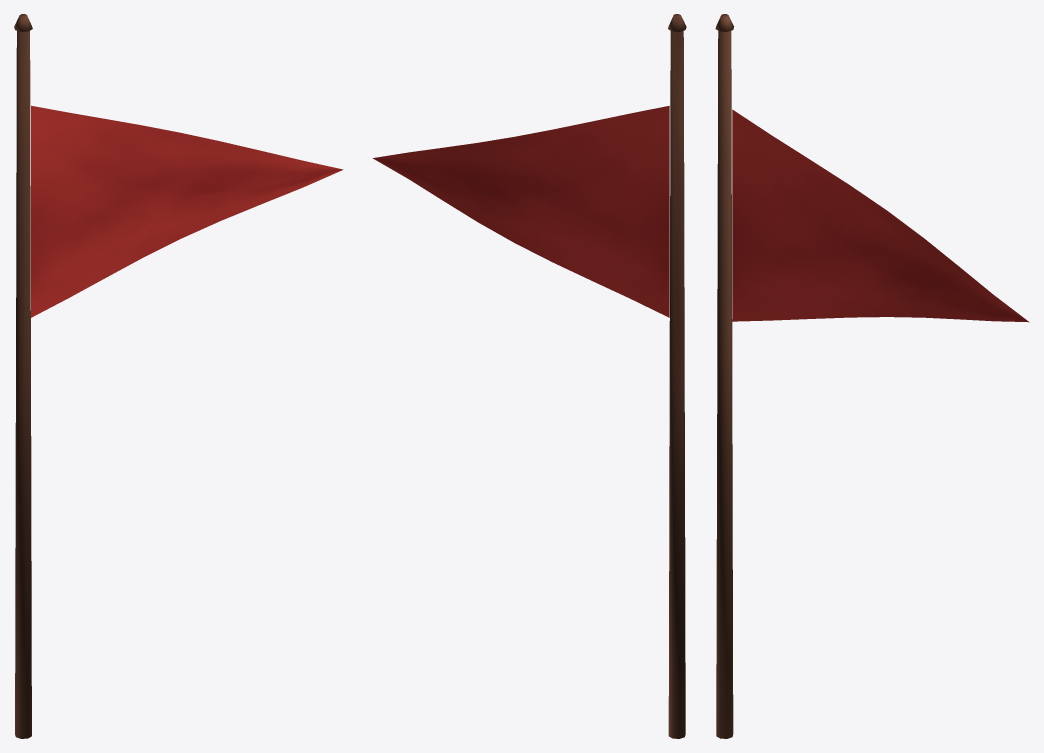
Rendered from mm6_deco_flag.glb.
3 views of the same model, side by side, from view 1: azimuth 30°, elevation 25°; view 2: azimuth 150°, elevation 25°; view 3: azimuth 330°, elevation 25° (orthographic).
Visible parts, largest first — view 1: Flag; view 2: Flag; view 3: Flag.
Part boxes in pixels (left/top/right/bottom): Flag: left=14, top=14, right=343, bottom=738; Flag: left=373, top=14, right=686, bottom=738; Flag: left=715, top=14, right=1029, bottom=738.
Bounding box in the file's own units: 1.9 × 4.07 × 0.13.
2 materials, 2 textured.
